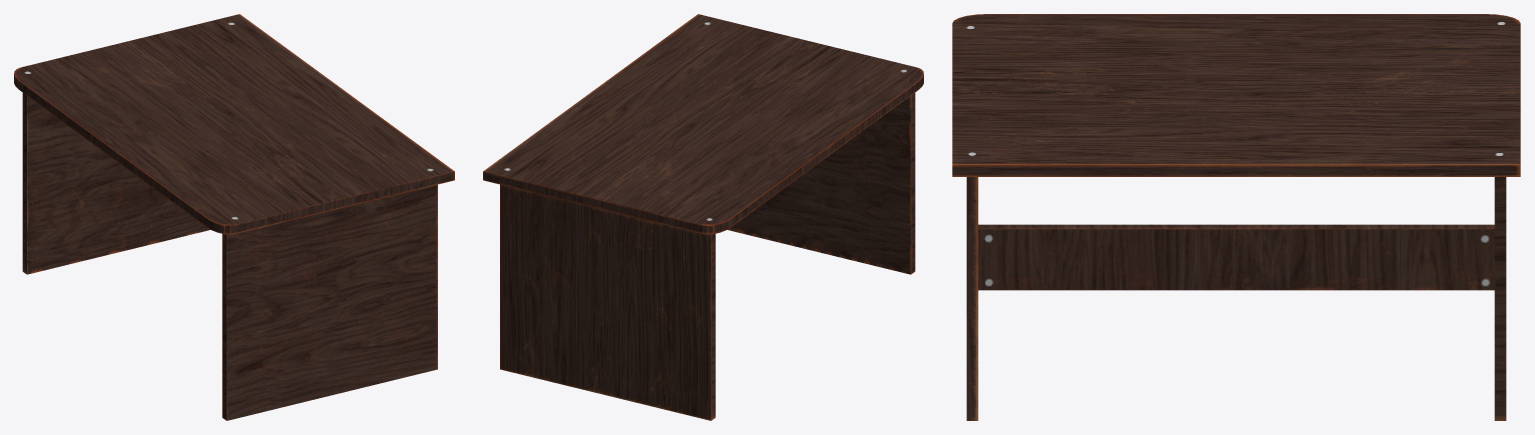
Rendered from old_table.glb.
The picture shows the model from 3 angles, left to right: view 1: azimuth 30°, elevation 25°; view 2: azimuth 150°, elevation 25°; view 3: azimuth 270°, elevation 25°; orthographic projection. The views are drawn at different scales.
Parts seen in each view (by area): view 1: Object_3, Object_2; view 2: Object_3, Object_2; view 3: Object_2, Object_3.
Part boxes in pixels (x1=…): Object_3: x1=22, y1=93, x2=437, y2=420; Object_2: x1=14, y1=14, x2=454, y2=234; Object_3: x1=500, y1=93, x2=915, y2=420; Object_2: x1=483, y1=14, x2=923, y2=234; Object_2: x1=952, y1=14, x2=1520, y2=176; Object_3: x1=966, y1=177, x2=1506, y2=420.
Size of the model in its own units: 1.32 by 1.08 by 2.11.
Materials: 2 (2 with a texture image).
